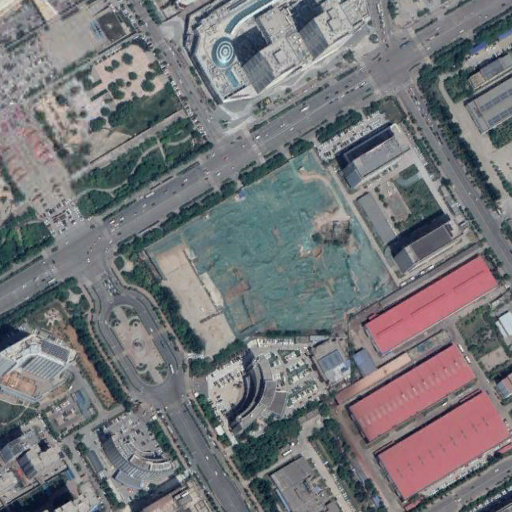cw: (153, 153, 398, 341)
